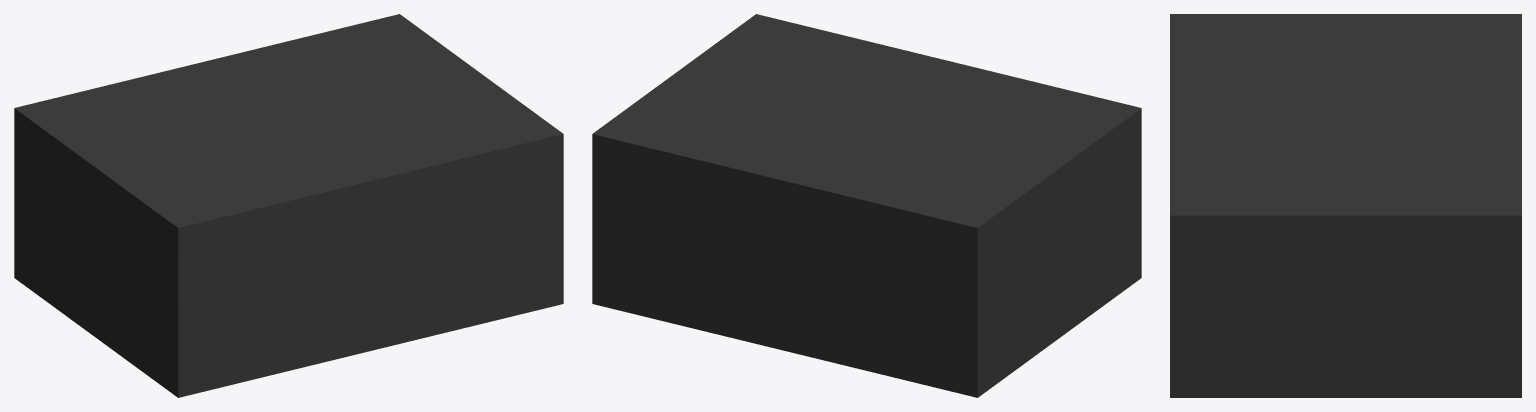
Rendered from frame__wheel_mount_0.glb.
The picture shows the model from 3 angles, left to right: view 1: azimuth 30°, elevation 25°; view 2: azimuth 150°, elevation 25°; view 3: azimuth 270°, elevation 25°; orthographic projection. The views are drawn at different scales.
Parts seen in each view (by area): view 1: world; view 2: world; view 3: world.
Part boxes in pixels (bbox=[...]): world: bbox=[14, 14, 563, 397]; world: bbox=[592, 14, 1141, 397]; world: bbox=[1170, 14, 1521, 397].
Size of the model in its own units: 0.095 by 0.04 by 0.07.
Materials: 1 (1 with a texture image).
